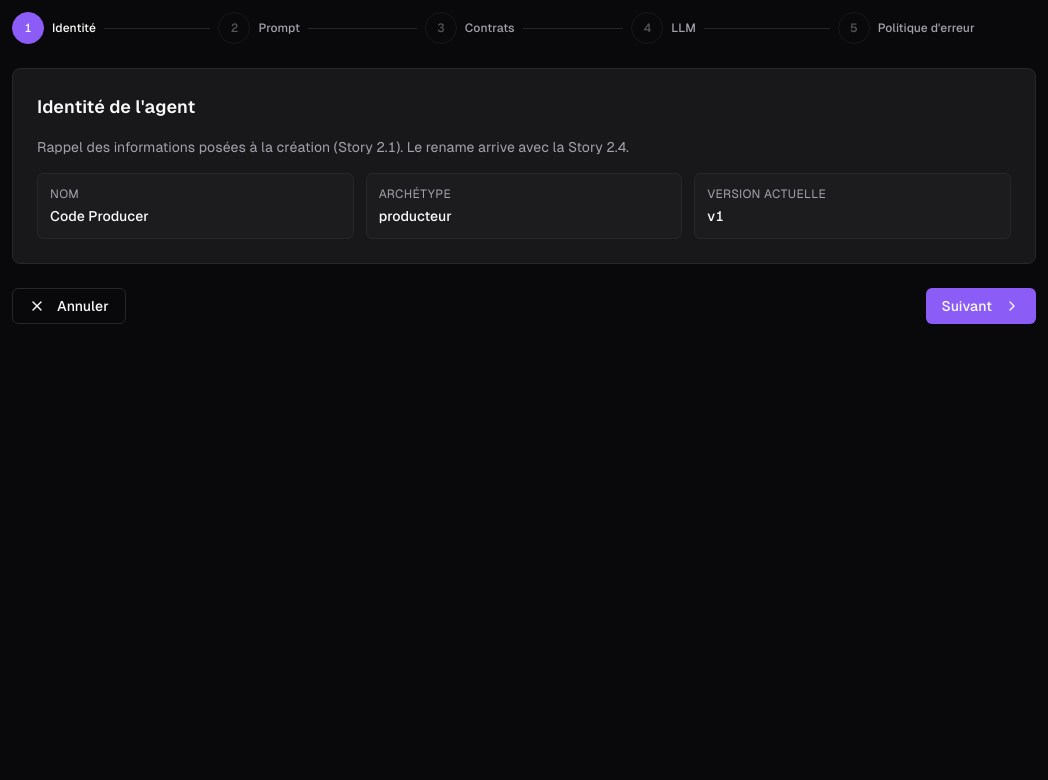
Test: TemplateWizardForm › P-14 — Annuler resets currentStep to 1 + clears completedSteps
// Reach step 4 (LLM).
Click the button "Suivant". click: click(981, 306)
box: [926, 288, 1036, 324]
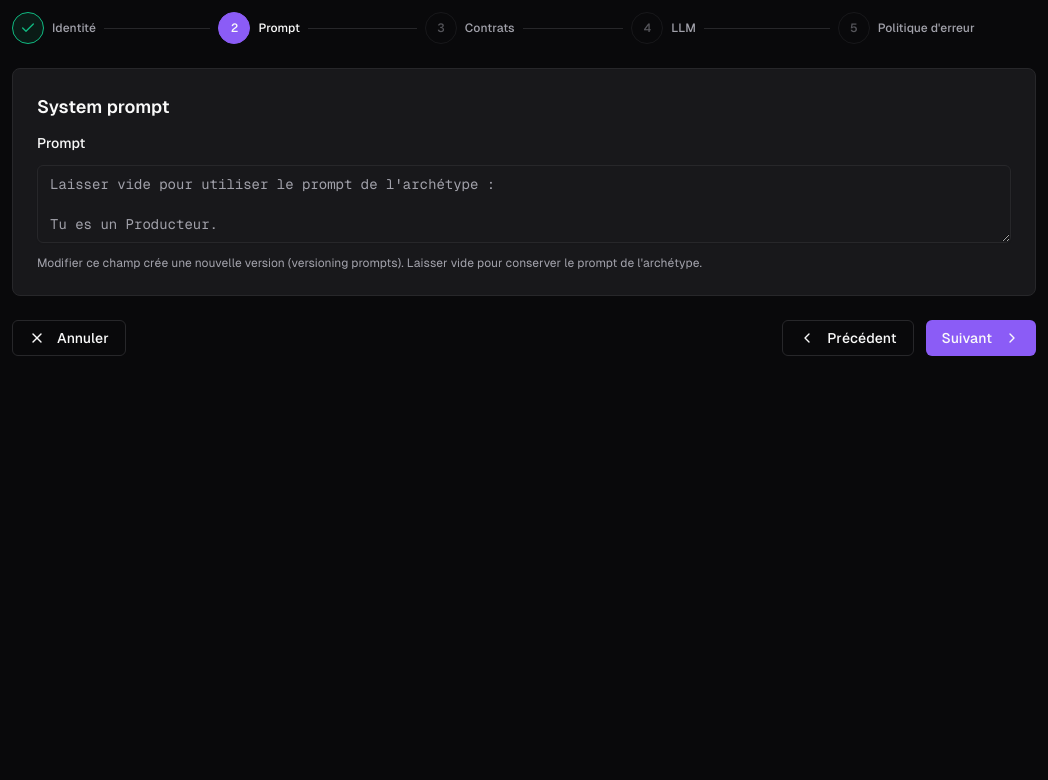
Click the button "Suivant". click: click(981, 338)
box: [926, 320, 1036, 356]
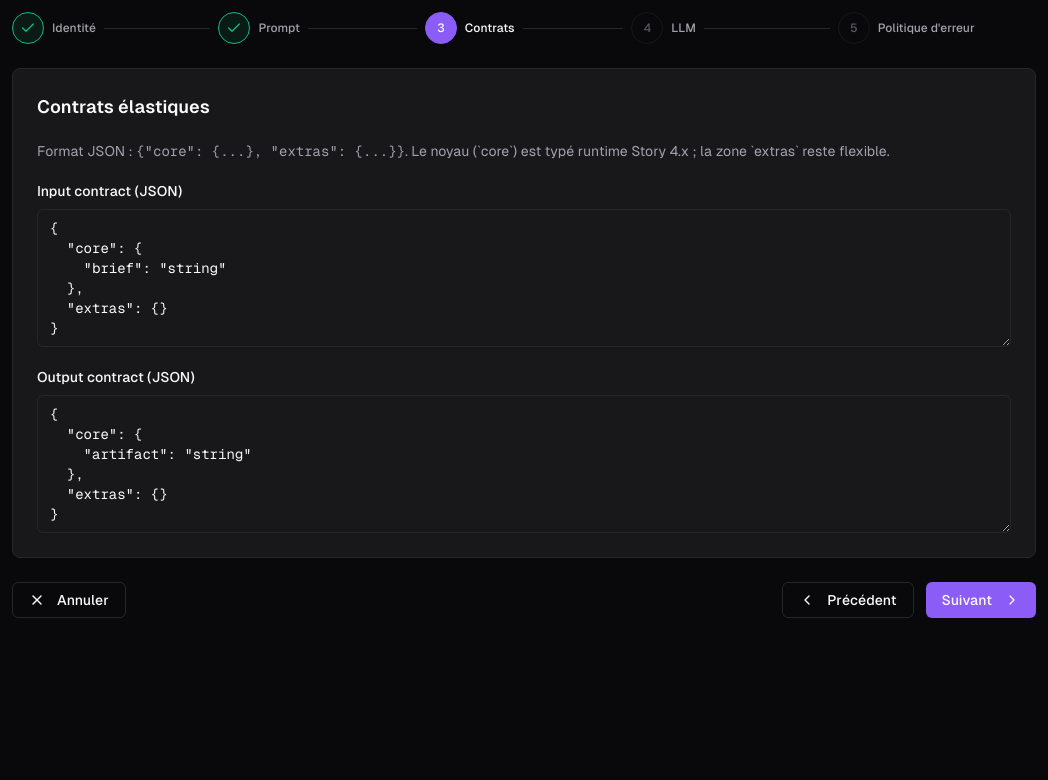
Click the button "Suivant". click: click(981, 600)
box: [926, 582, 1036, 618]
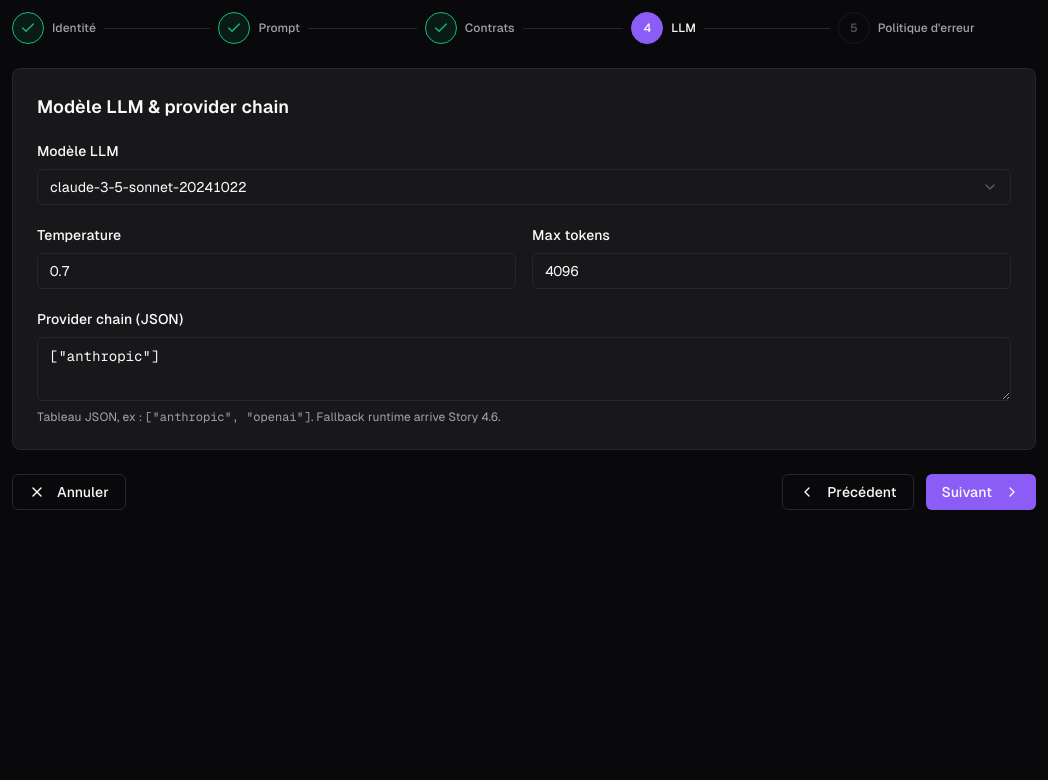
Expected: the heading "Modèle LLM & provider chain" is shown, [37, 96, 289, 117]
// Click Annuler → step 1.
Click the button "Annuler". click: click(69, 492)
box: [12, 474, 126, 510]
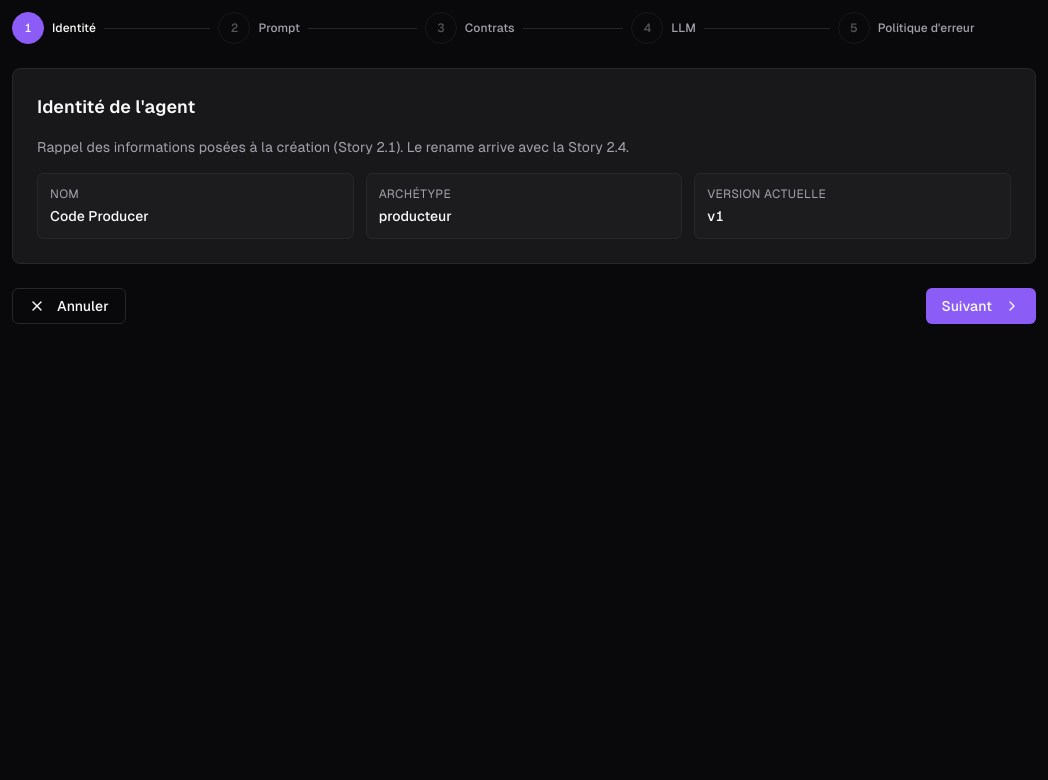
Expected: the heading "Identité de l'agent" is shown, [37, 96, 195, 117]
